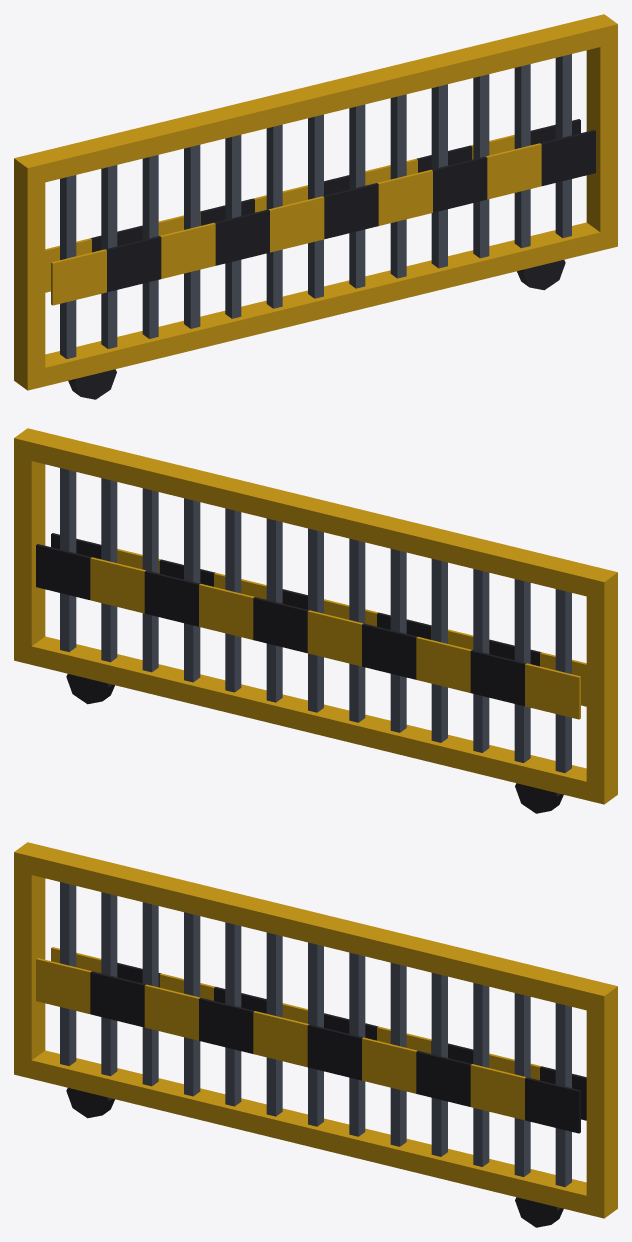
The model's file is gate_panel.glb.
The picture shows the model from 3 angles, top to bottom: view 1: azimuth 30°, elevation 25°; view 2: azimuth 150°, elevation 25°; view 3: azimuth 330°, elevation 25°; orthographic projection.
Visible parts, largest first — view 1: gate_panel; view 2: gate_panel; view 3: gate_panel.
Part boxes in pixels (box(x1,y1,x2,y2)): gate_panel: box(14, 14, 617, 399); gate_panel: box(14, 428, 617, 813); gate_panel: box(14, 842, 617, 1227).
Bounding box in the file's own units: 5 × 2.03 × 0.2441.
